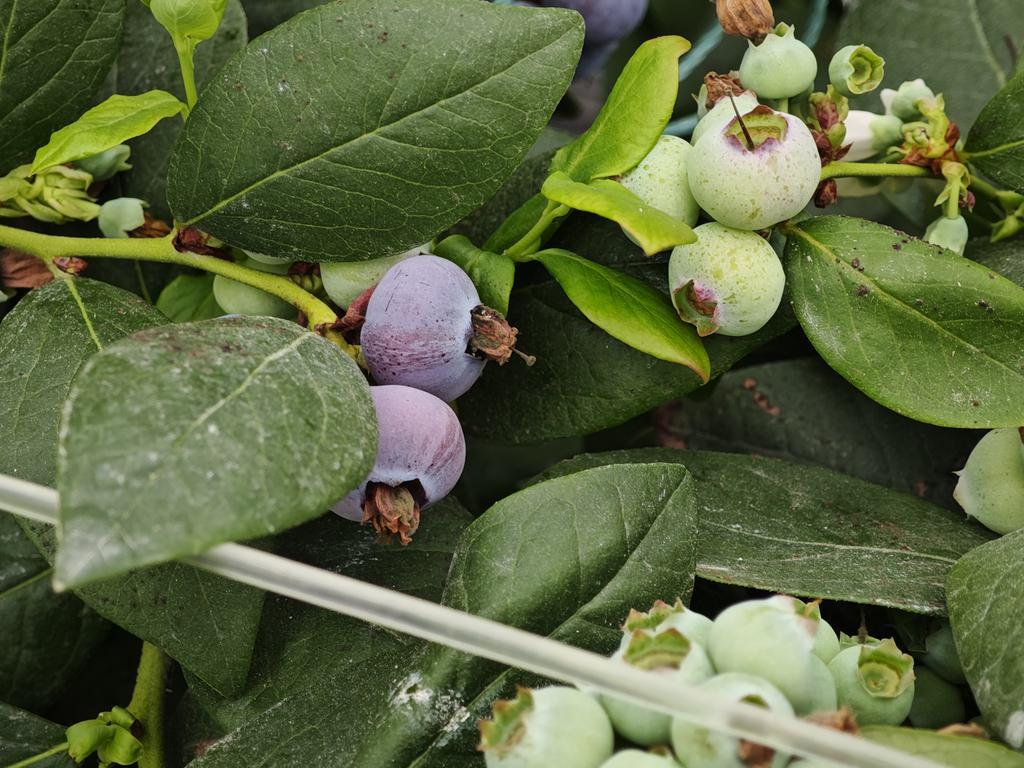Semi-RipeBlueBerry: (359, 253, 500, 400), (334, 382, 470, 528)
UnripeBlueBerry: (683, 103, 824, 232), (667, 219, 789, 339)
